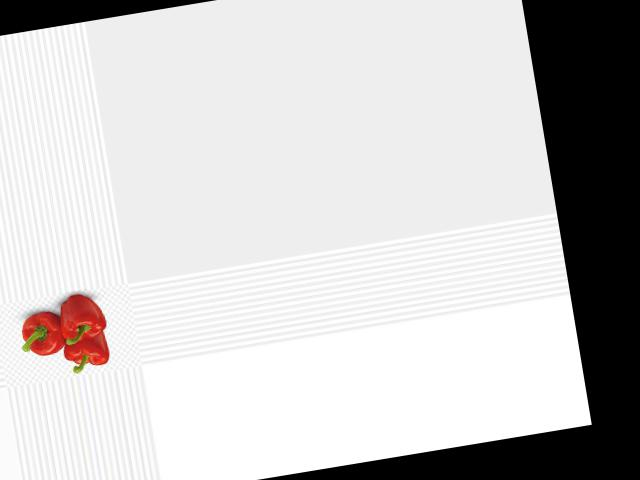bell_pepper: (13, 304, 72, 365)
